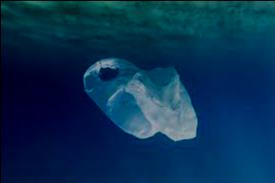Plastic: (82, 51, 199, 142)
